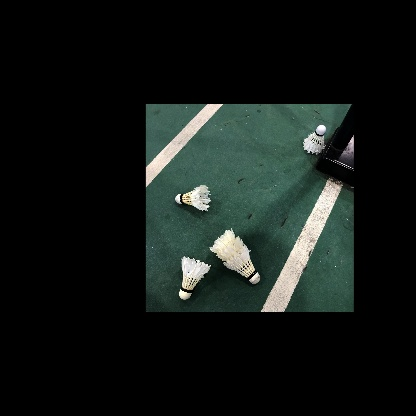ball_single: (209, 228, 260, 284), (179, 256, 211, 300), (175, 185, 211, 211), (303, 125, 326, 155)
